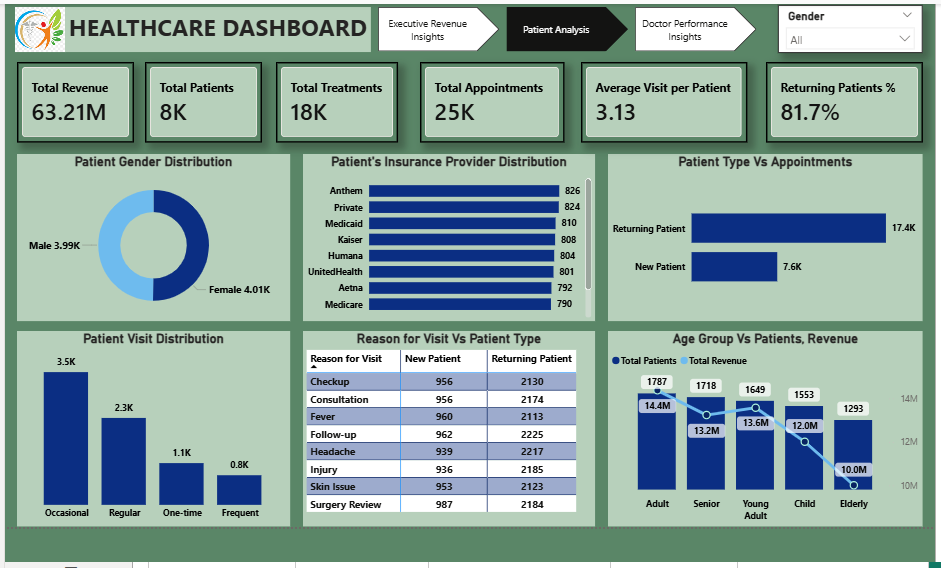

What the dashboard file says about the page in this screenshot:
{"tool":"powerbi","page":{"name":"Patient Analysis","canvas":[1280,720],"ordinal":5},"visuals":[{"type":"cardVisual","fields":{"Data":["DAX_Measure.Total Revenue"]},"box":[15.8,79.2,161.3,110.9],"z":3000},{"type":"cardVisual","fields":{"Data":["DAX_Measure.Total Patients"]},"box":[193,79.2,161.3,110.9],"z":4000},{"type":"cardVisual","fields":{"Data":["DAX_Measure.Total Treatments"]},"box":[373,79.2,168.5,110.9],"z":5000},{"type":"cardVisual","fields":{"Data":["DAX_Measure.Total Appointments"]},"box":[571.7,79.2,198.7,110.9],"z":6000},{"type":"slicer","title":"Department","fields":{"Values":["Patients.gender"]},"box":[1064.2,1.4,198.7,66.2],"z":7000},{"type":"cardVisual","fields":{"Data":["DAX_Measure.Retruning Visit Rate"]},"box":[1046.9,79.2,216,110.9],"z":8000},{"type":"donutChart","title":"Patient Gender Distribution","fields":{"Category":["Patients.gender"],"Y":["CountNonNull(Patients.patient_id)"]},"box":[15.8,205.9,375.8,230.4],"z":9000},{"type":"barChart","title":"Patient Type Vs Appointments","fields":{"Category":["Appointments.patient_type"],"Y":["CountNonNull(Appointments.appointment_id)"]},"box":[829.4,205.9,433.4,230.4],"z":10000},{"type":"barChart","title":"Patient''s Insurance Provider Distribution","fields":{"Category":["Patients.insurance_provider"],"Y":["DAX_Measure.Total Patients"]},"box":[410.4,205.9,401.8,230.4],"z":11000},{"type":"columnChart","title":"Patient Visit Distribution","fields":{"Category":["Patient Appointment Summary.Visit Segment"],"Y":["CountNonNull(Patient Appointment Summary.patient_id)"]},"box":[15.8,450.7,375.8,269.3],"z":12000},{"type":"lineStackedColumnComboChart","title":"Age Group Vs Patients, Revenue","fields":{"Category":["Patients.age group"],"Y":["DAX_Measure.Total Patients"],"Y2":["DAX_Measure.Total Revenue"]},"box":[829.4,450.7,433.4,269.3],"z":13000},{"type":"pivotTable","title":"Reason for Visit Vs Patient Type","fields":{"Rows":["Appointments.reason_for_visit"],"Columns":["Appointments.patient_type"],"Values":["CountNonNull(Appointments.patient_id)"]},"box":[410.4,450.7,401.8,269.3],"z":14000},{"type":"cardVisual","fields":{"Data":["DAX_Measure.Average Visit per Patient"]},"box":[793.4,79.2,229,110.9],"z":15000},{"type":"image","box":[13.8,4.1,68.8,61.9],"z":15001},{"type":"textbox","box":[82.6,4.1,421.2,61.9],"z":15002},{"type":"pageNavigator","box":[513.4,4.1,521.6,61.9],"z":15003}]}

Visuals, with their boxes on the page's 1280x720 design canvas (x1, y1, x2, y2). These are canvas units, not pixel positions in the 941x568 screenshot, which may show the page scaled, cropped or inside an application window:
cardVisual - DAX_Measure.Total Revenue: 16 79 177 190
cardVisual - DAX_Measure.Total Patients: 193 79 354 190
cardVisual - DAX_Measure.Total Treatments: 373 79 542 190
cardVisual - DAX_Measure.Total Appointments: 572 79 770 190
"Department" slicer: 1064 1 1263 68
cardVisual - DAX_Measure.Retruning Visit Rate: 1047 79 1263 190
"Patient Gender Distribution" donutChart: 16 206 392 436
"Patient Type Vs Appointments" barChart: 829 206 1263 436
"Patient''s Insurance Provider Distribution" barChart: 410 206 812 436
"Patient Visit Distribution" columnChart: 16 451 392 720
"Age Group Vs Patients, Revenue" lineStackedColumnComboChart: 829 451 1263 720
"Reason for Visit Vs Patient Type" pivotTable: 410 451 812 720
cardVisual - DAX_Measure.Average Visit per Patient: 793 79 1022 190
image: 14 4 83 66
textbox: 83 4 504 66
pageNavigator: 513 4 1035 66
